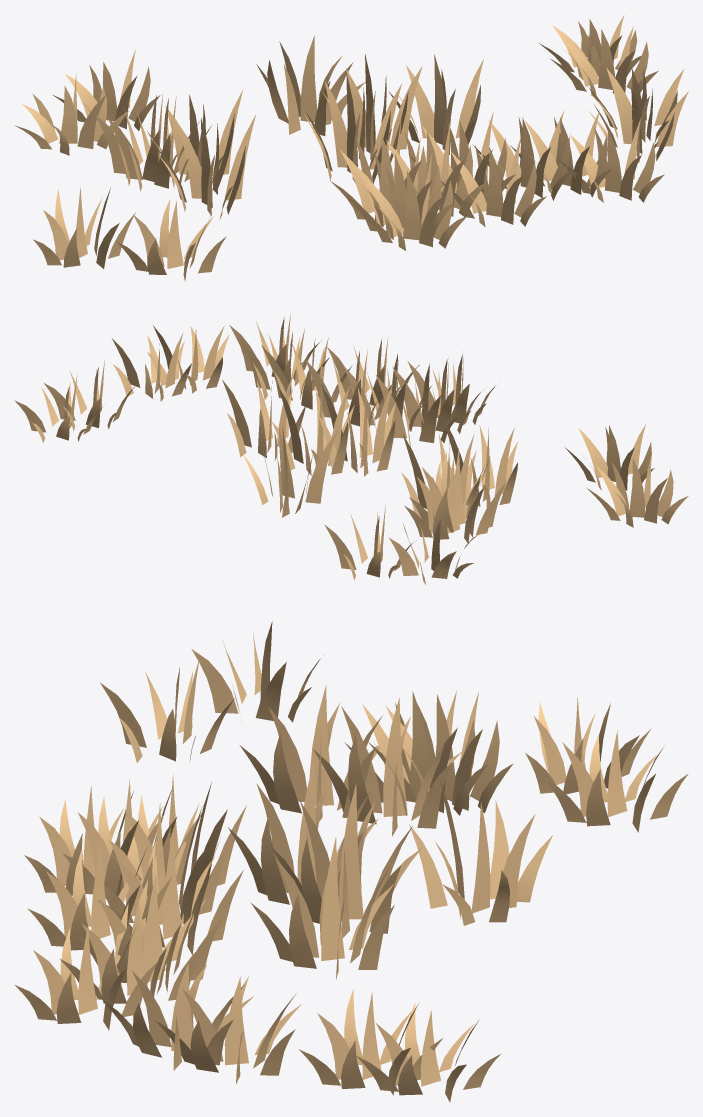
Rendered from Grass_6.fbx.
3 views of the same model, one above another, from view 1: azimuth 30°, elevation 25°; view 2: azimuth 150°, elevation 25°; view 3: azimuth 270°, elevation 25° (orthographic). The views are drawn at different scales.
Parts seen in each view (by area): view 1: Grass_6; view 2: Grass_6; view 3: Grass_6.
Part boxes in pixels (box(x1,y1,x2,y2)): Grass_6: box(15, 15, 688, 281); Grass_6: box(14, 313, 688, 584); Grass_6: box(15, 621, 688, 1102).
Size of the model in its own units: 112 by 16.31 by 73.53.
1 material, 1 textured.
